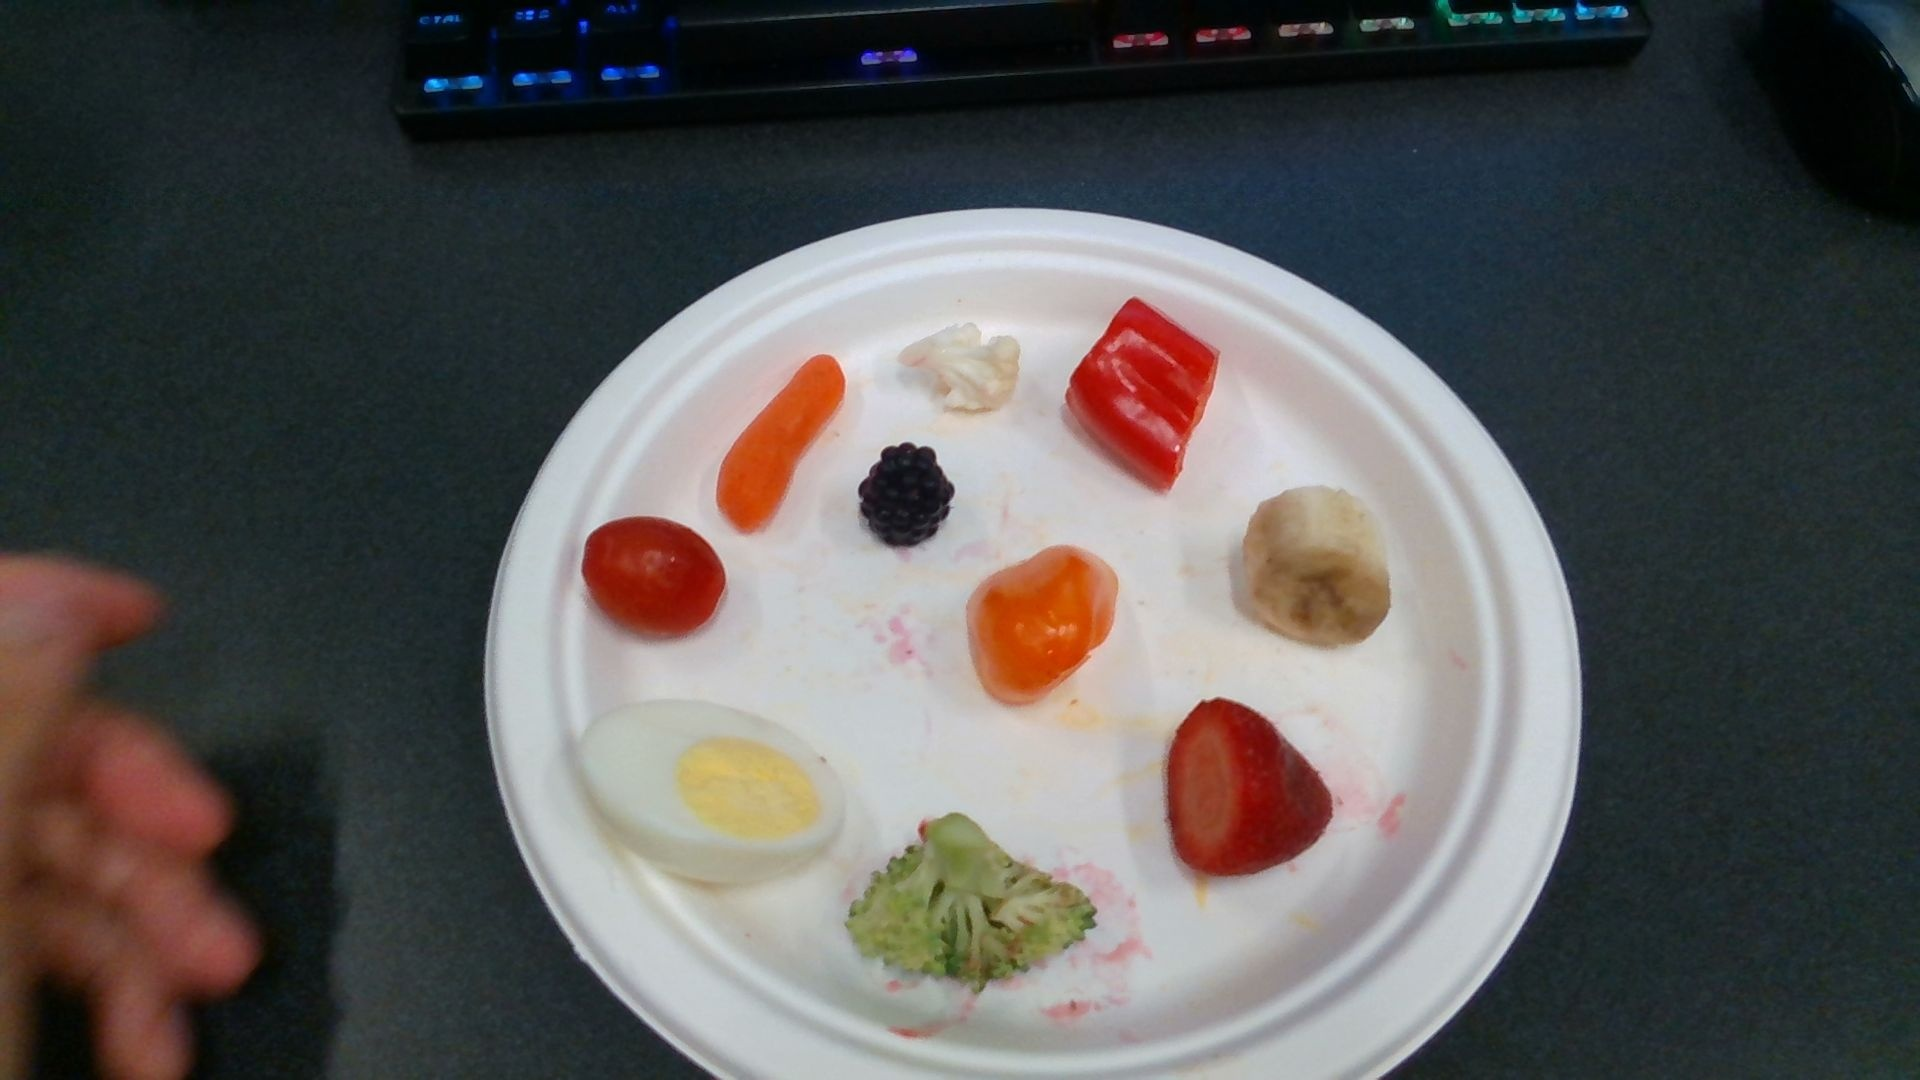banana: (1245, 488, 1393, 647)
bell_pepper: (1065, 298, 1220, 491), (967, 545, 1120, 702)
blackberry: (860, 444, 953, 550)
broccoli: (845, 815, 1095, 982)
carrot: (717, 355, 845, 533)
cauliflower: (899, 323, 1021, 413)
cherry_tomato: (584, 516, 725, 640)
egg: (584, 702, 845, 880)
strawberry: (1167, 700, 1335, 873)
